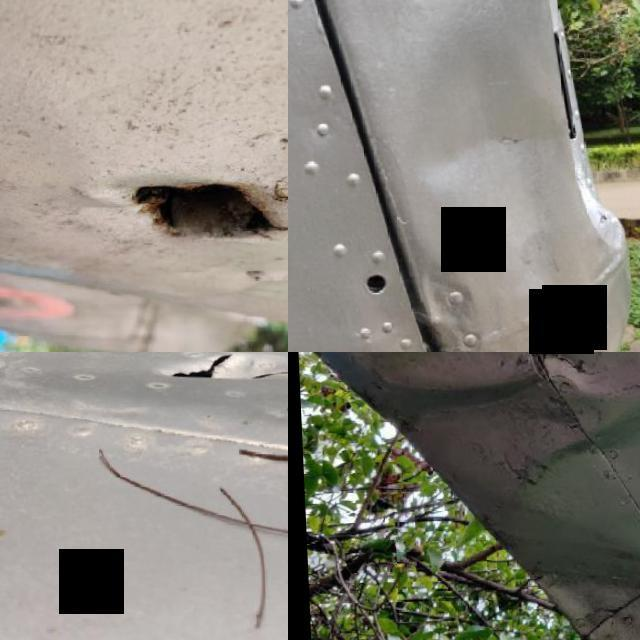Crack: (81, 153, 288, 267), (138, 352, 288, 392), (532, 352, 603, 385)
Dent: (329, 352, 640, 510), (390, 33, 565, 297), (508, 530, 640, 640)
Missing_Fastener: (334, 252, 395, 312)
